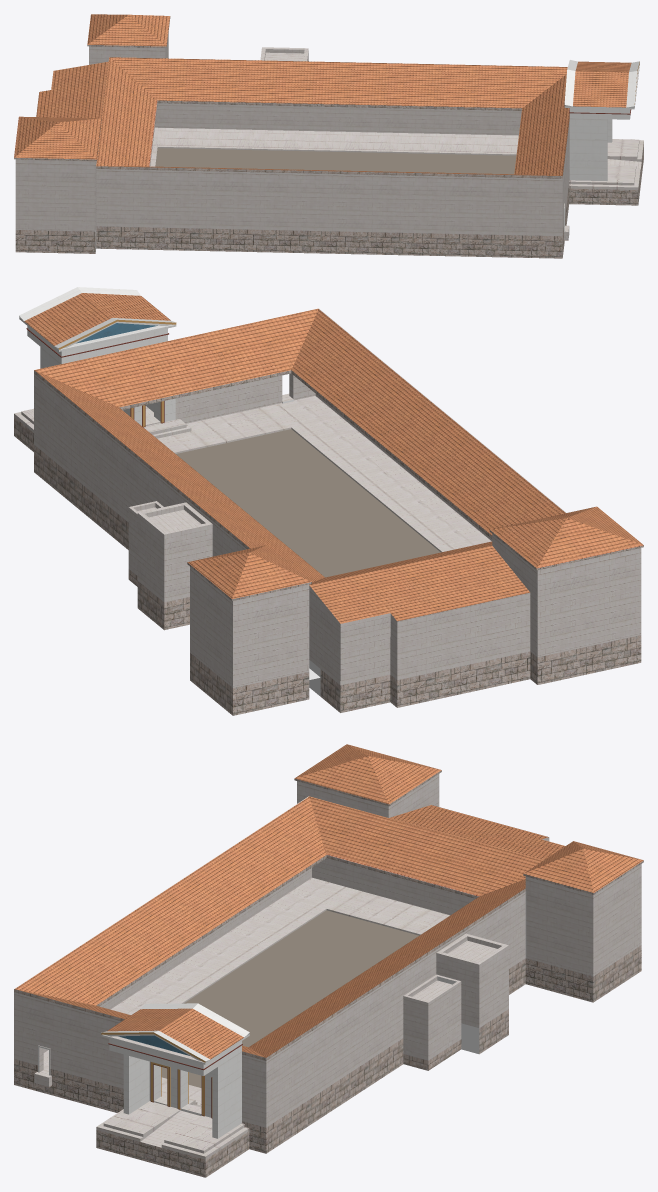
File: Pompeion.fbx
3 renders of one model, top to bottom at view 1: azimuth 30°, elevation 25°; view 2: azimuth 150°, elevation 25°; view 3: azimuth 270°, elevation 25°, orthographic. The views are drawn at different scales.
Parts seen in each view (by area): view 1: Group1; view 2: Group1; view 3: Group1.
Boxes of the visible parts, x1,y1,x2,y2 form: Group1: (14,14,643,258); Group1: (14,287,643,715); Group1: (14,744,643,1177).
Bounding box in the file's own units: 81.25 × 15.13 × 66.96.
